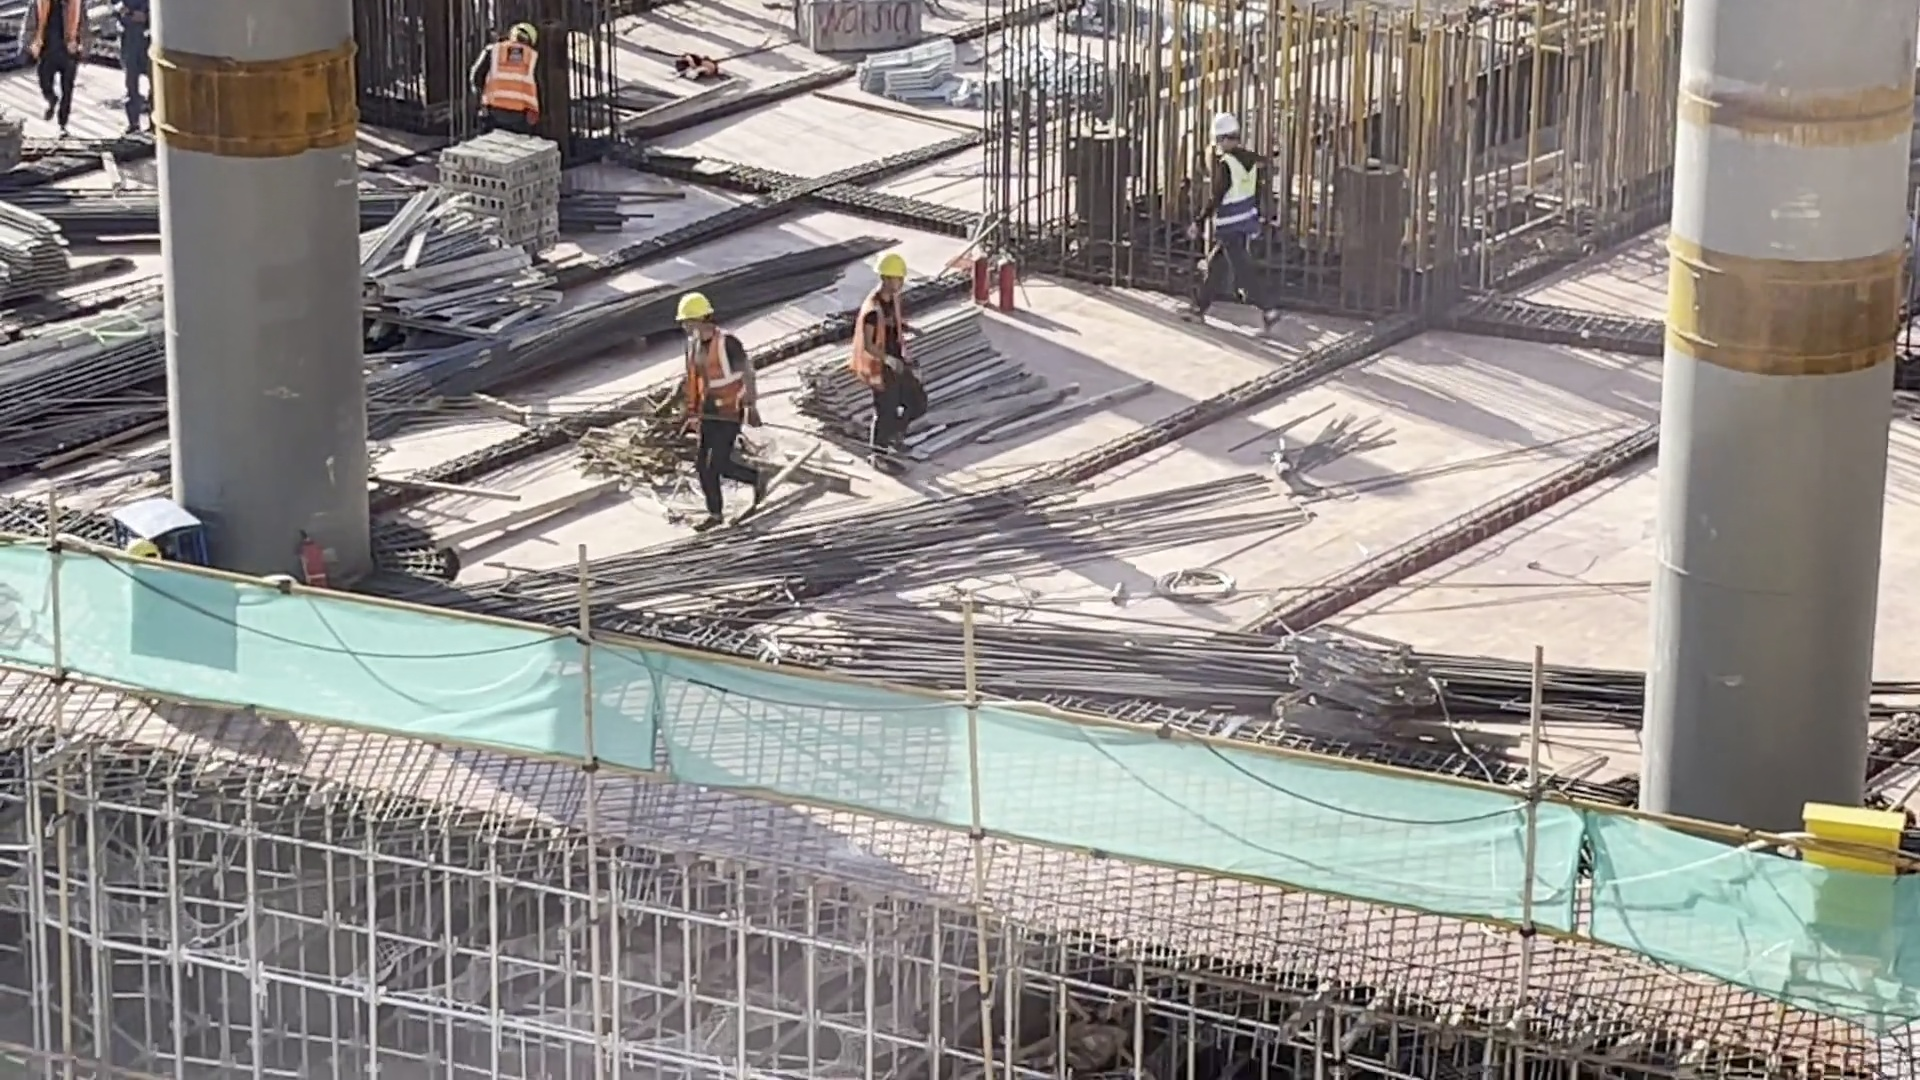ebox: (1803, 790, 1895, 956)
helmet: (667, 283, 718, 324), (872, 244, 918, 286), (1209, 102, 1244, 138)
person: (660, 272, 770, 528), (836, 239, 945, 468), (1207, 120, 1282, 315), (9, 1, 94, 135), (471, 4, 552, 141), (102, 1, 158, 134)
vest: (852, 290, 924, 394), (675, 331, 746, 430), (478, 38, 545, 122), (1201, 148, 1268, 231), (18, 1, 89, 78)
wood: (1, 305, 189, 453)
